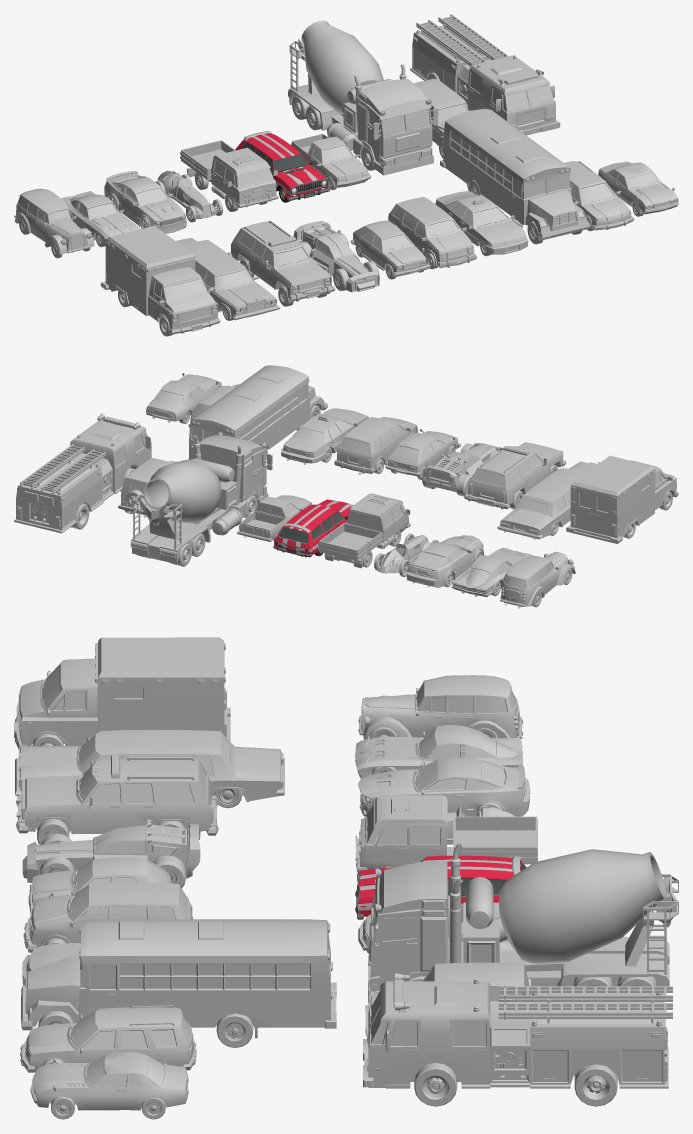
The model's file is Cars Pack 4.fbx.
3 views of the same model, one above another, from view 1: azimuth 30°, elevation 25°; view 2: azimuth 150°, elevation 25°; view 3: azimuth 270°, elevation 25° (orthographic). The views are drawn at different scales.
Parts seen in each view (by area): view 1: Car body.18, Car body.10, Car body.8, Car body.11, Car body.13, Car.8 mixer, Car body.5, Car body.12, Car body.16, Car body.17, Car body.3, Car body.1 (+9 smaller); view 2: Car body.10, Car body.8, Car body.18, Car body.11, Car body.13, Car body.5, Car.8 mixer, Car body.12, Car body.16, Car body.17, Car body.1, Car body.6 (+9 smaller); view 3: Car body.10, Car body.18, Car body.8, Car body.11, Car.8 mixer, Car body.13, Car body.12, Car body.5, Car body.19, Car body.1, Car body.20, Car body.3 (+10 smaller).
Boxes of the visible parts, bbox=[...] form: Car body.18: bbox=[440, 109, 590, 240]; Car body.10: bbox=[410, 14, 560, 135]; Car body.8: bbox=[288, 39, 438, 175]; Car body.11: bbox=[100, 225, 220, 334]; Car body.13: bbox=[227, 220, 335, 301]; Car.8 mixer: bbox=[301, 20, 383, 114]; Car body.5: bbox=[180, 140, 278, 207]; Car body.12: bbox=[175, 238, 280, 320]; Car body.16: bbox=[388, 197, 476, 268]; Car body.17: bbox=[434, 191, 528, 254]; Car body.3: bbox=[104, 171, 186, 233]; Car body.1: bbox=[14, 188, 94, 254]; Car body.10: bbox=[14, 413, 151, 533]; Car body.8: bbox=[130, 432, 272, 564]; Car body.18: bbox=[186, 365, 327, 460]; Car body.11: bbox=[566, 455, 678, 543]; Car body.13: bbox=[464, 442, 566, 509]; Car body.5: bbox=[318, 493, 410, 568]; Car.8 mixer: bbox=[143, 460, 221, 522]; Car body.12: bbox=[497, 461, 599, 539]; Car body.16: bbox=[334, 417, 419, 474]; Car body.17: bbox=[281, 408, 368, 464]; Car body.1: bbox=[500, 551, 575, 608]; Car body.6: bbox=[273, 499, 352, 557]; Car body.10: bbox=[363, 973, 672, 1088]; Car body.18: bbox=[21, 919, 336, 1038]; Car body.8: bbox=[368, 843, 678, 1002]; Car body.11: bbox=[14, 637, 230, 749]; Car.8 mixer: bbox=[492, 849, 667, 964]; Car body.13: bbox=[16, 755, 218, 835]; Car body.12: bbox=[15, 730, 284, 802]; Car body.5: bbox=[355, 795, 537, 872]; Car body.19: bbox=[20, 1005, 196, 1072]; Car body.1: bbox=[358, 675, 523, 739]; Car body.20: bbox=[30, 1052, 188, 1110]; Car body.3: bbox=[358, 757, 530, 816].
Bounding box in the file's own units: 24.87 × 4.16 × 17.7.
